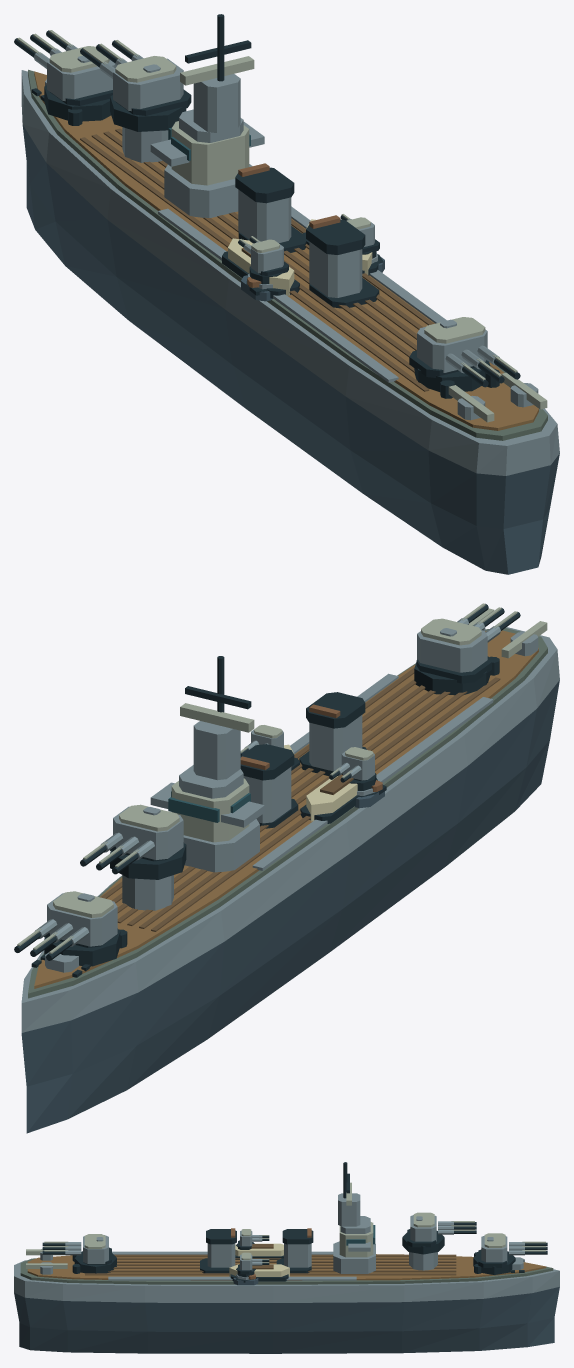
File: historic-wichita.glb
The picture shows the model from 3 angles, top to bottom: view 1: azimuth 30°, elevation 25°; view 2: azimuth 150°, elevation 25°; view 3: azimuth 270°, elevation 25°; orthographic projection. The views are drawn at different scales.
Visible parts, largest first — view 1: historic-wichita-historic-wichita-geometry, historic-wichita-part_bridge.096-geometry, historic-wichita-turret_main_1.063-geometry, historic-wichita-turret_main_2.056-geometry, historic-wichita-turret_main_0.067-geometry, historic-wichita-historic_funnel_1.048-geometry, historic-wichita-historic_funnel_0.094-geometry, historic-wichita-turret_aa_aa-port.098-geometry; view 2: historic-wichita-historic-wichita-geometry, historic-wichita-part_bridge.096-geometry, historic-wichita-turret_main_2.056-geometry, historic-wichita-turret_main_1.063-geometry, historic-wichita-turret_main_0.067-geometry, historic-wichita-historic_funnel_1.048-geometry, historic-wichita-historic_funnel_0.094-geometry, historic-wichita-turret_aa_aa-port.098-geometry, historic-wichita-turret_aa_aa-starboard.094-geometry; view 3: historic-wichita-historic-wichita-geometry, historic-wichita-part_bridge.096-geometry, historic-wichita-turret_main_1.063-geometry, historic-wichita-turret_main_0.067-geometry, historic-wichita-turret_main_2.056-geometry, historic-wichita-historic_funnel_1.048-geometry, historic-wichita-historic_funnel_0.094-geometry, historic-wichita-turret_aa_aa-starboard.094-geometry, historic-wichita-turret_aa_aa-port.098-geometry.
Part boxes in pixels (x1,y1,x2,y2): historic-wichita-historic-wichita-geometry: [21, 69, 559, 574]; historic-wichita-part_bridge.096-geometry: [150, 14, 264, 217]; historic-wichita-turret_main_1.063-geometry: [80, 40, 191, 131]; historic-wichita-turret_main_2.056-geometry: [409, 317, 520, 391]; historic-wichita-turret_main_0.067-geometry: [14, 30, 116, 121]; historic-wichita-historic_funnel_1.048-geometry: [306, 215, 379, 308]; historic-wichita-historic_funnel_0.094-geometry: [235, 163, 306, 252]; historic-wichita-turret_aa_aa-port.098-geometry: [238, 236, 288, 284]; historic-wichita-historic-wichita-geometry: [21, 608, 559, 1133]; historic-wichita-part_bridge.096-geometry: [150, 656, 264, 872]; historic-wichita-turret_main_2.056-geometry: [414, 603, 520, 695]; historic-wichita-turret_main_1.063-geometry: [80, 804, 186, 879]; historic-wichita-turret_main_0.067-geometry: [14, 891, 120, 966]; historic-wichita-historic_funnel_1.048-geometry: [299, 692, 366, 775]; historic-wichita-historic_funnel_0.094-geometry: [240, 744, 298, 828]; historic-wichita-turret_aa_aa-port.098-geometry: [329, 747, 376, 790]; historic-wichita-turret_aa_aa-starboard.094-geometry: [240, 725, 283, 755]; historic-wichita-historic-wichita-geometry: [14, 1243, 559, 1353]; historic-wichita-part_bridge.096-geometry: [333, 1162, 375, 1273]; historic-wichita-turret_main_1.063-geometry: [402, 1212, 476, 1254]; historic-wichita-turret_main_0.067-geometry: [473, 1233, 547, 1274]; historic-wichita-turret_main_2.056-geometry: [42, 1234, 116, 1273]; historic-wichita-historic_funnel_1.048-geometry: [200, 1228, 236, 1273]; historic-wichita-historic_funnel_0.094-geometry: [276, 1228, 313, 1273]; historic-wichita-turret_aa_aa-starboard.094-geometry: [236, 1252, 269, 1277]; historic-wichita-turret_aa_aa-port.098-geometry: [236, 1229, 269, 1249].
Bounding box in the file's own units: 0.6478 × 1.57 × 4.32.
